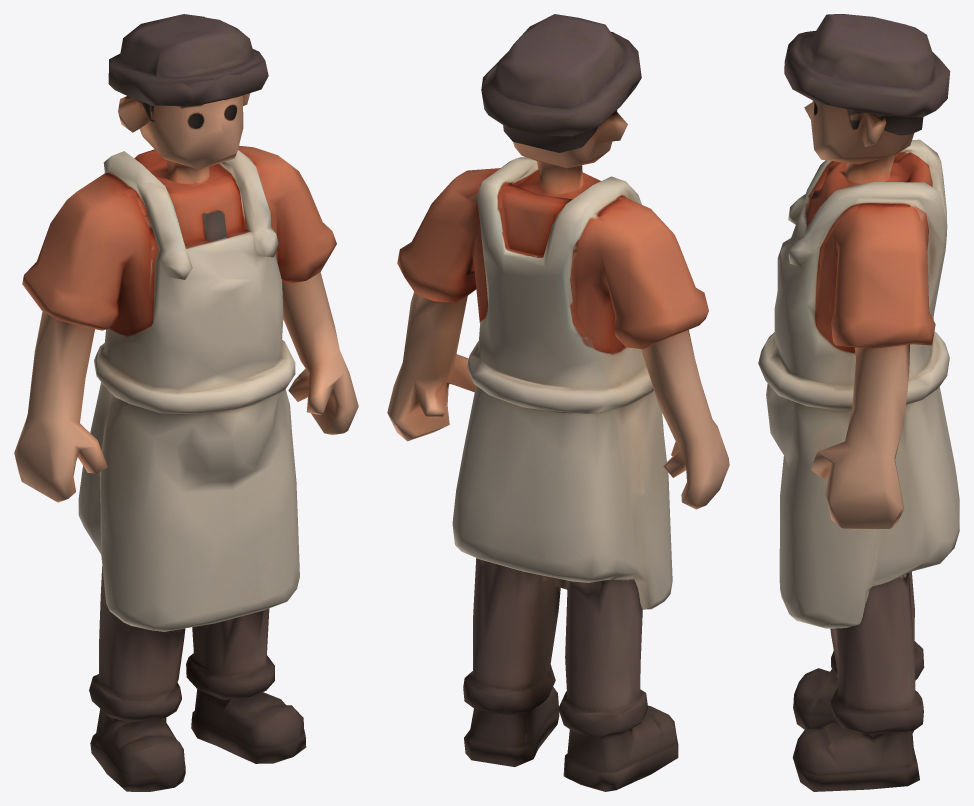
File: baker.glb
The picture shows the model from 3 angles, left to right: view 1: azimuth 30°, elevation 25°; view 2: azimuth 150°, elevation 25°; view 3: azimuth 270°, elevation 25°; orthographic projection.
Visible parts, largest first — view 1: tripo_node_3052d680-e130-4454-a8fa-6d2d299f73d9; view 2: tripo_node_3052d680-e130-4454-a8fa-6d2d299f73d9; view 3: tripo_node_3052d680-e130-4454-a8fa-6d2d299f73d9.
Boxes of the visible parts, left/top/right/bottom form: tripo_node_3052d680-e130-4454-a8fa-6d2d299f73d9: left=14, top=14, right=358, bottom=791; tripo_node_3052d680-e130-4454-a8fa-6d2d299f73d9: left=387, top=14, right=729, bottom=791; tripo_node_3052d680-e130-4454-a8fa-6d2d299f73d9: left=758, top=14, right=959, bottom=791.
Bounding box in the file's own units: 0.4583 × 0.9785 × 0.2469.
Materials: 1 (1 with a texture image).
